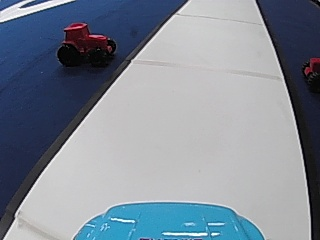tractor: (56, 19, 118, 68), (301, 56, 320, 92)
